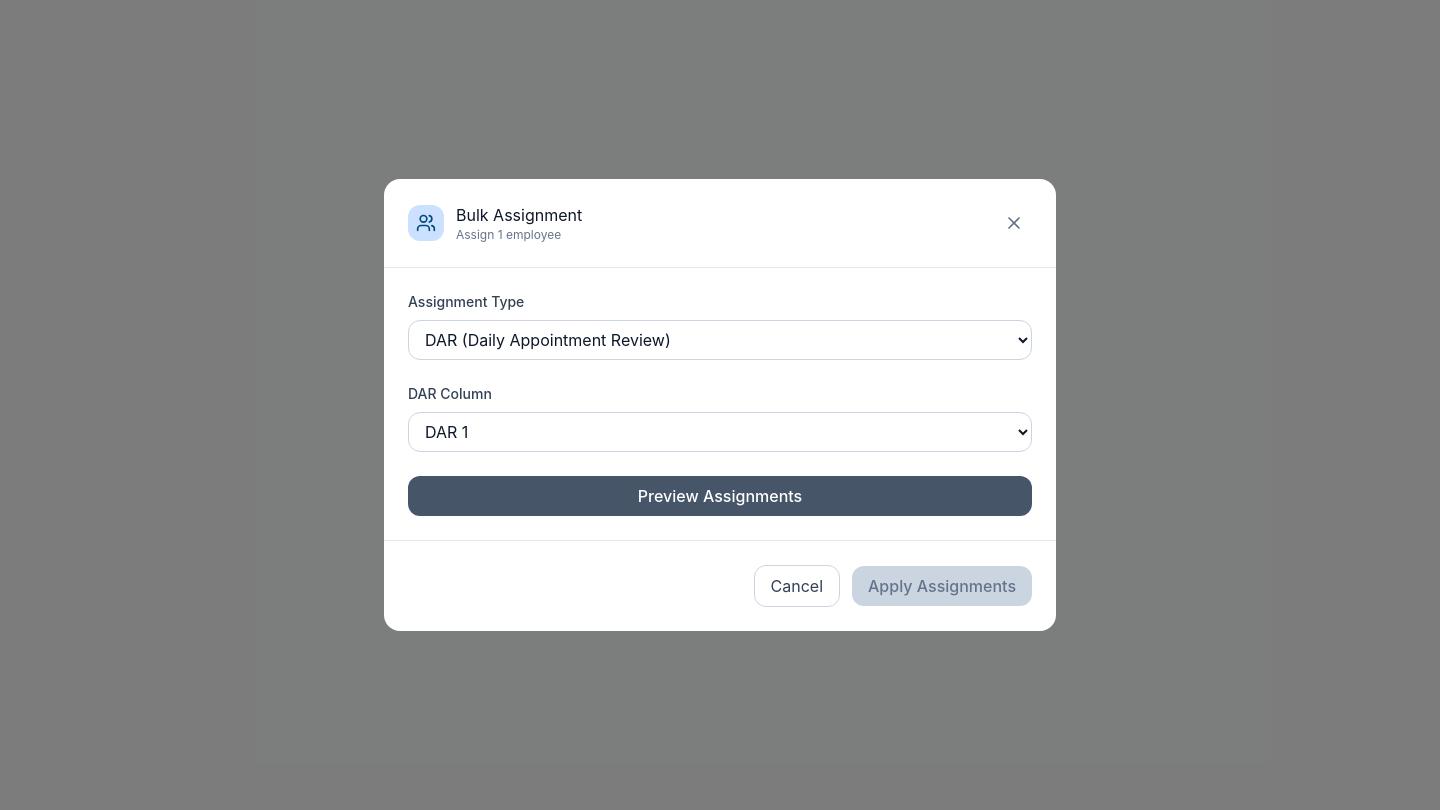
Scenario: BulkAssignmentModal › should validate CPOE skill requirements
Select "CPOE" in the dropdown labelled "Assignment Type" at (720, 340), box [408, 320, 1032, 360]
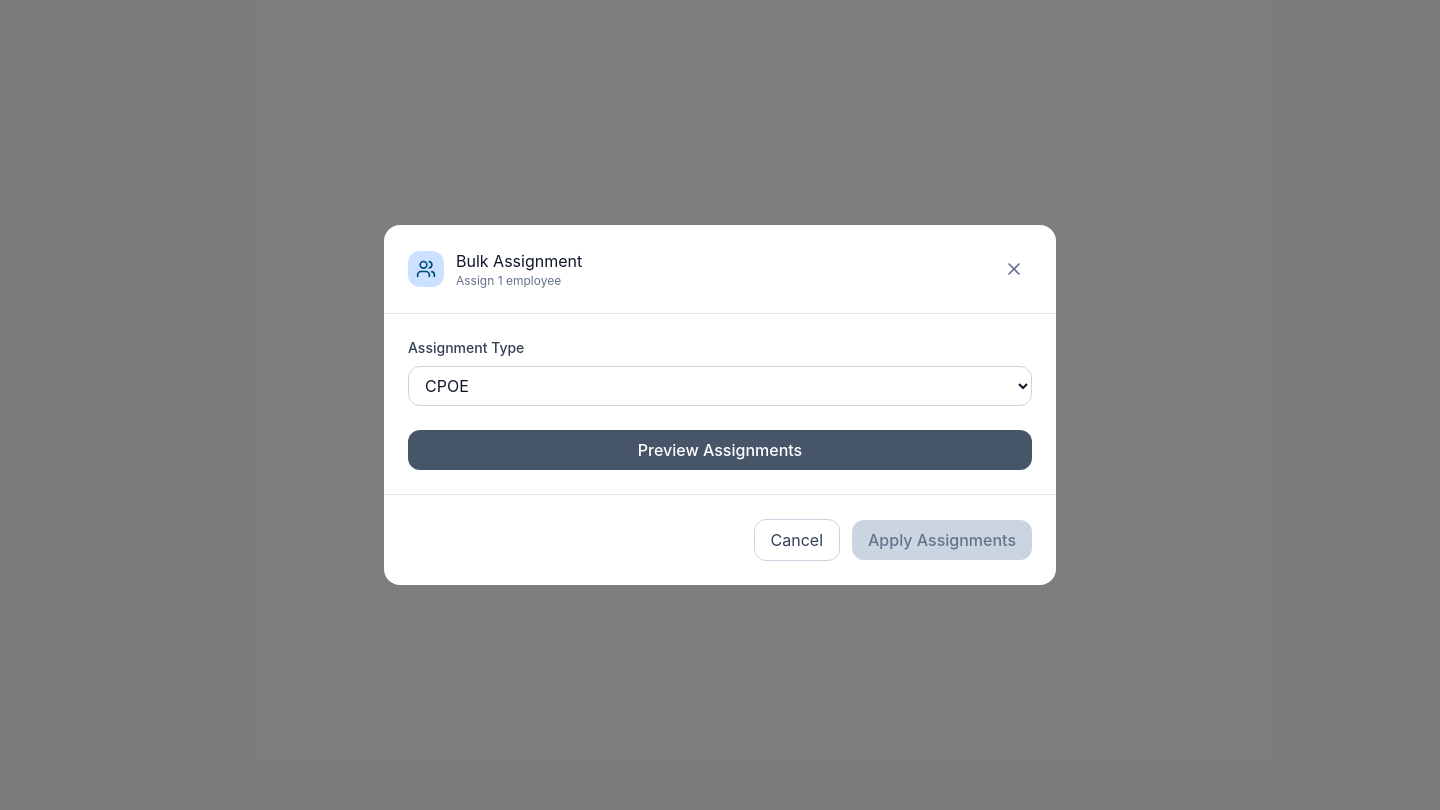
Click the button "Preview Assignments" at (720, 450), box [408, 430, 1032, 470]
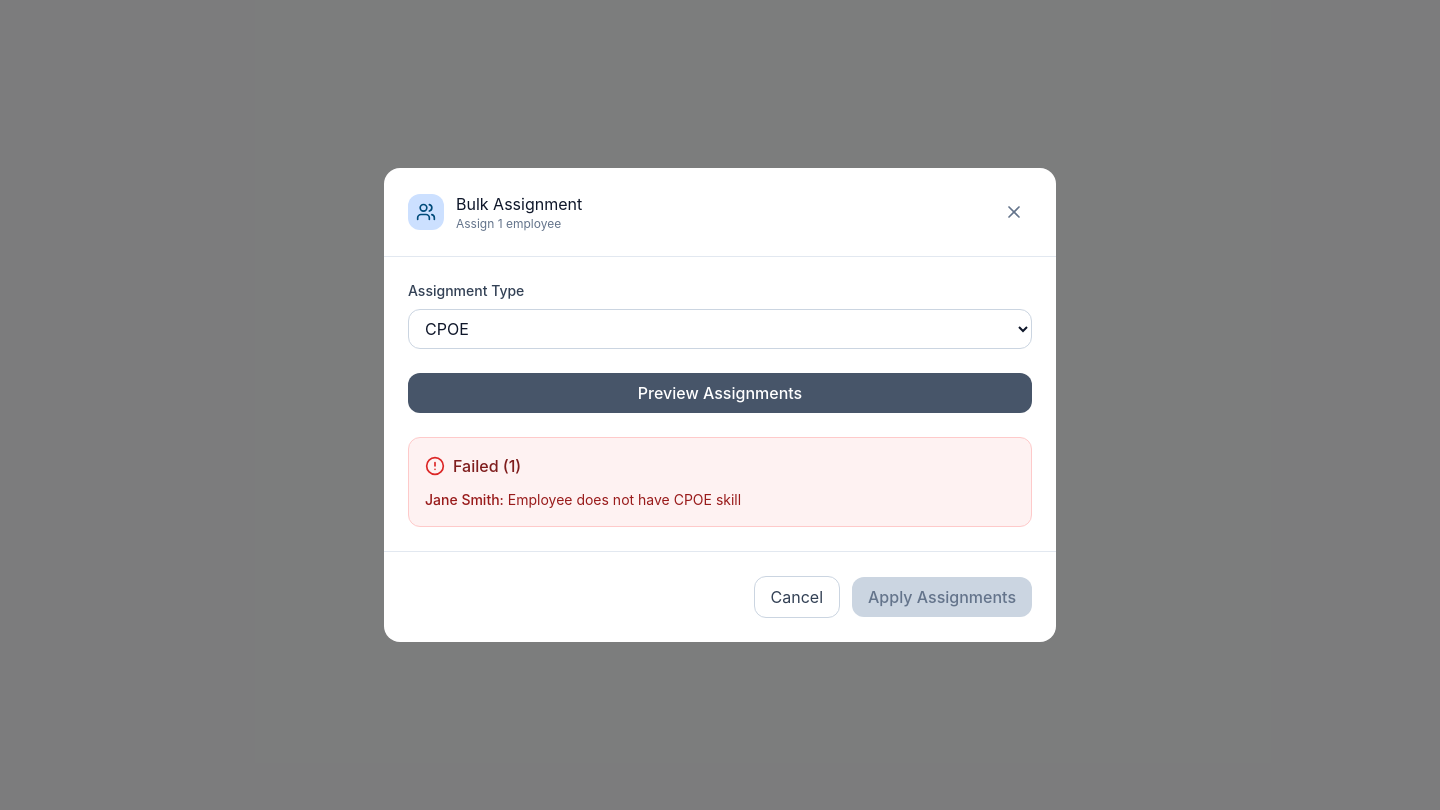
Now the heading "Failed (1)" is shown, box [453, 454, 521, 478]
Now the list item "Jane Smith: Employee does not have CPOE skill" is shown, box [425, 491, 741, 508]
